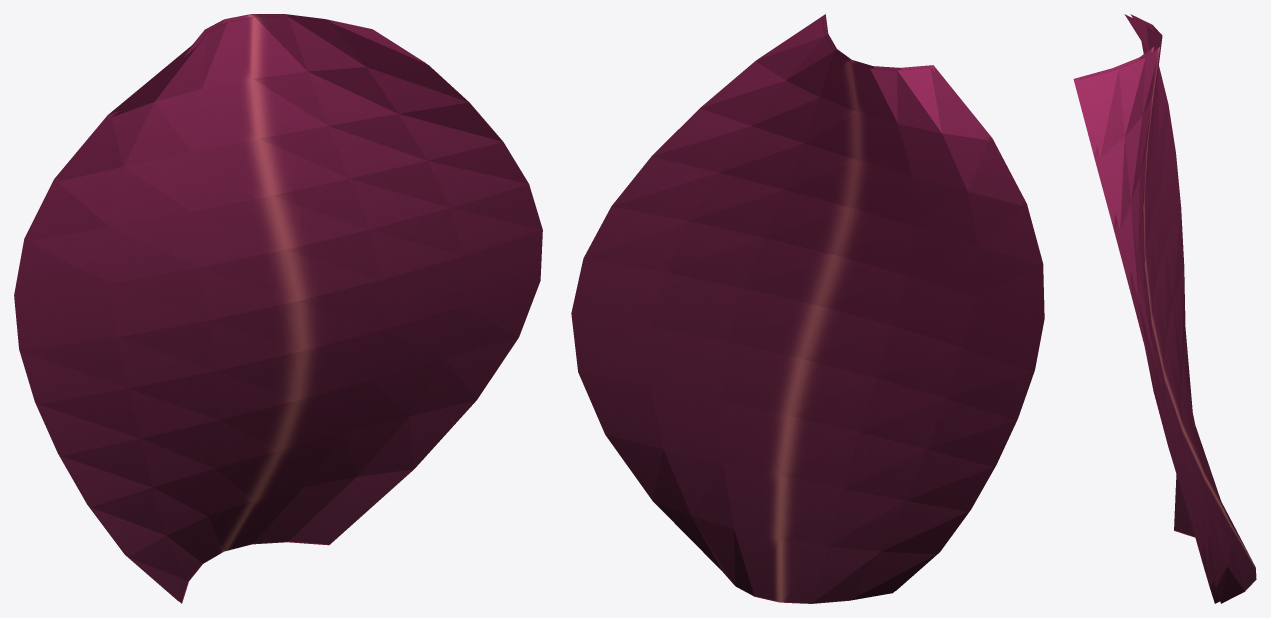
The model's file is petal_hero.glb.
The picture shows the model from 3 angles, left to right: view 1: azimuth 30°, elevation 25°; view 2: azimuth 150°, elevation 25°; view 3: azimuth 270°, elevation 25°; orthographic projection. The views are drawn at different scales.
Parts seen in each view (by area): view 1: world; view 2: world; view 3: world.
Boxes of the visible parts, left/top/right/bottom form: world: left=14, top=14, right=542, bottom=603; world: left=571, top=14, right=1044, bottom=603; world: left=1073, top=14, right=1256, bottom=603.
Size of the model in its own units: 1.07 by 1.12 by 0.3639.
Materials: 1 (1 with a texture image).
